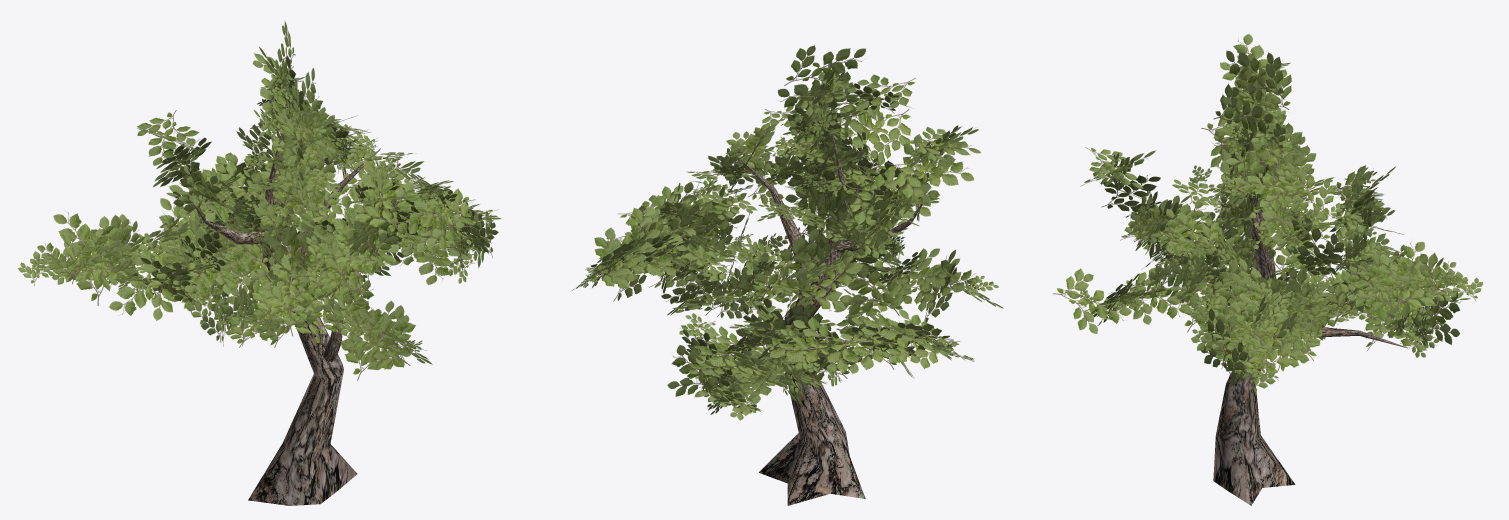
The model's file is newtrees5-transformed.glb.
3 views of the same model, side by side, from view 1: azimuth 30°, elevation 25°; view 2: azimuth 150°, elevation 25°; view 3: azimuth 270°, elevation 25° (orthographic). The views are drawn at different scales.
Visible parts, largest first — view 1: Circle_1, Circle_0; view 2: Circle_1, Circle_0; view 3: Circle_1, Circle_0.
Boxes of the visible parts, <box> form: Circle_1: <box>18,20,501,380</box>; Circle_0: <box>187,129,380,505</box>; Circle_1: <box>572,45,1003,420</box>; Circle_0: <box>699,133,922,505</box>; Circle_1: <box>1053,33,1482,394</box>; Circle_0: <box>1213,183,1407,505</box>.
Size of the model in its own units: 1.75 by 1.84 by 1.65.
Materials: 2 (2 with a texture image).
